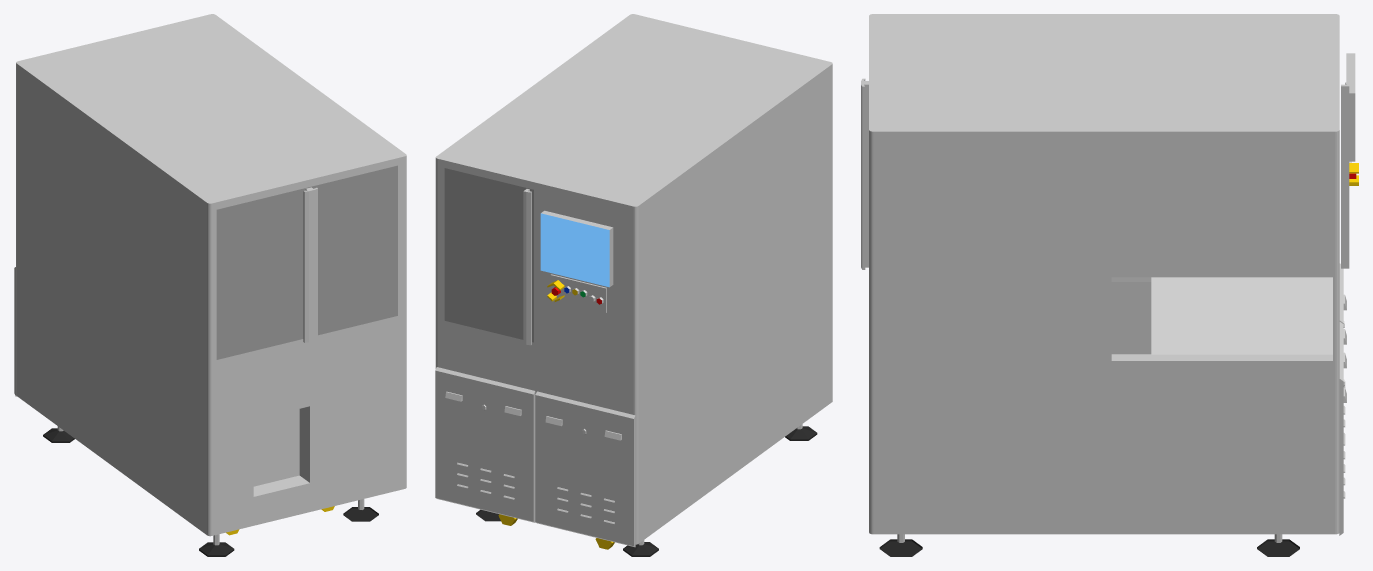
3 renders of one model, left to right at view 1: azimuth 30°, elevation 25°; view 2: azimuth 150°, elevation 25°; view 3: azimuth 270°, elevation 25°, orthographic. The views are drawn at different scales.
Parts seen in each view (by area): view 1: 5hao_035; view 2: 5hao_035; view 3: 5hao_035.
Boxes of the visible parts, x1,y1,x2,y2 form: 5hao_035: (14, 14, 406, 556); 5hao_035: (435, 14, 832, 556); 5hao_035: (861, 14, 1358, 556).
Bounding box in the file's own units: 99.54 × 173 × 178.
